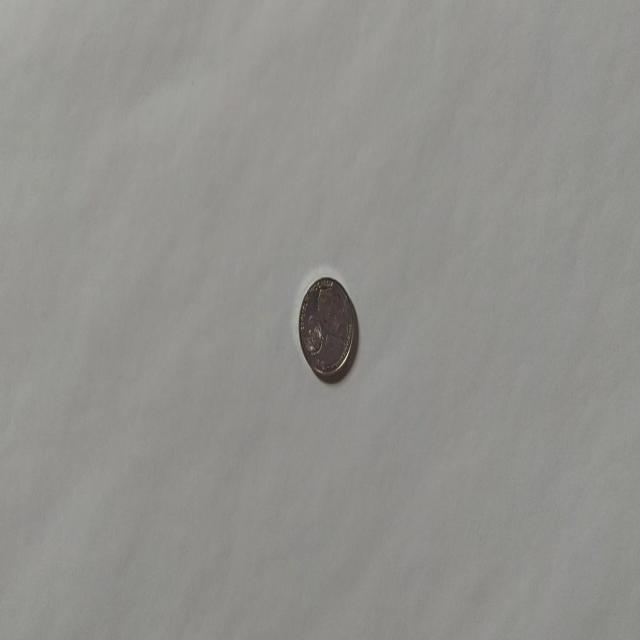dua ratus rupiah: (298, 274, 354, 379)
